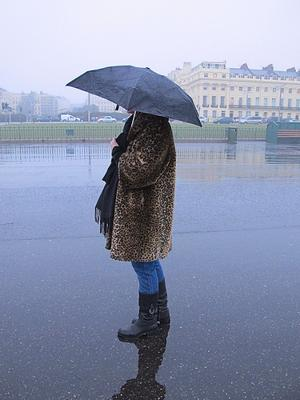person: (95, 109, 178, 339)
